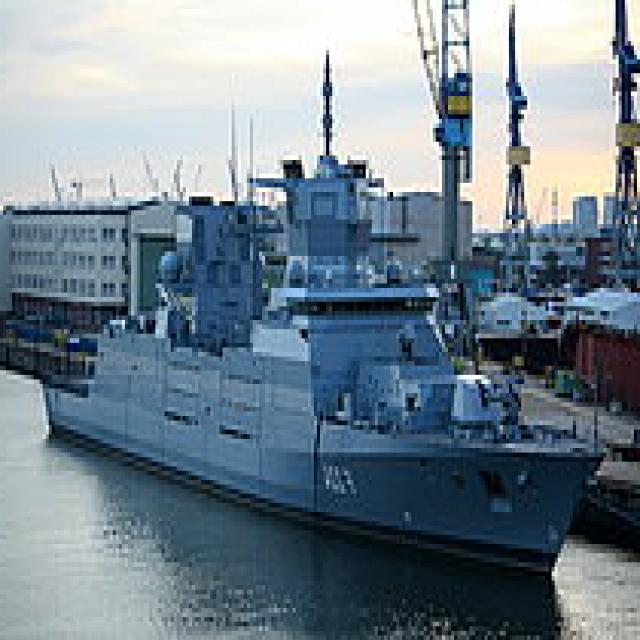Warship: (46, 46, 618, 576)
